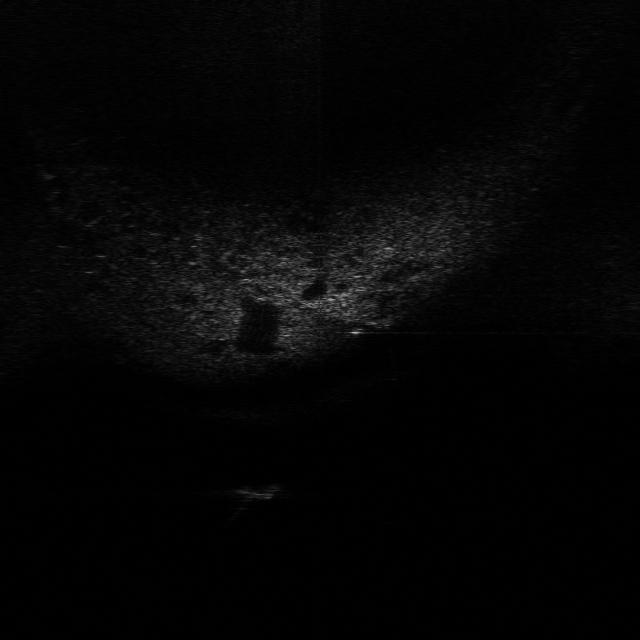cube: (227, 476, 284, 505)
